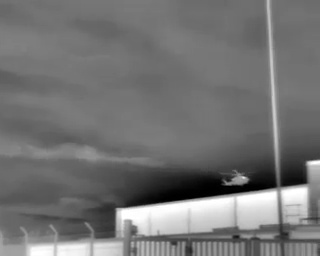HELICOPTER: (208, 164, 260, 192)
